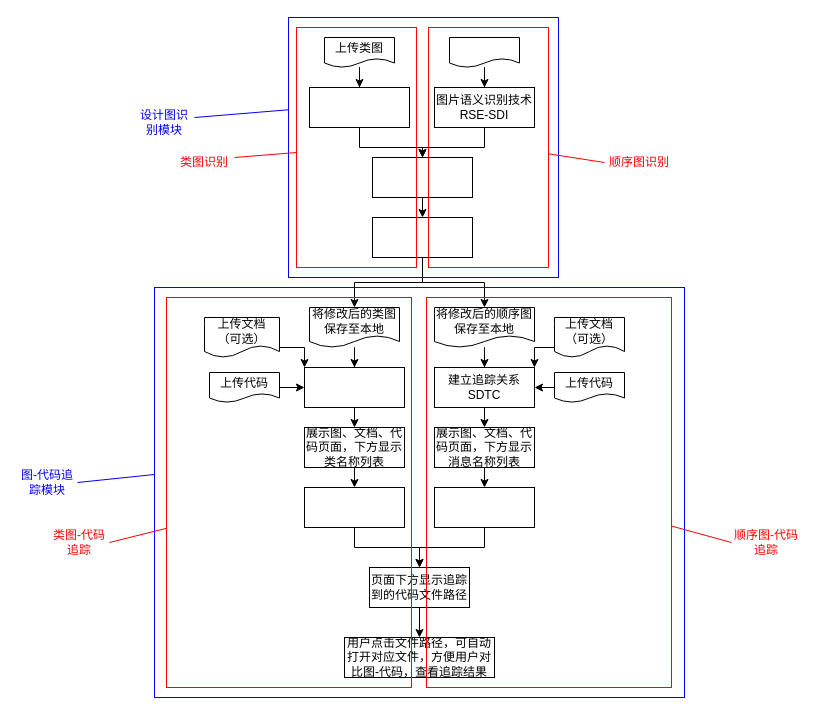
This 818x715 diagram has some shape labels left out. The box of each missing label's shape, as (x1, y1, x2, y2) in pixels:
上传顺序图: (448, 36, 520, 68)
图片语义识别技术RSE-CDI: (308, 86, 410, 128)
展示可编辑图页面: (372, 156, 472, 198)
建立追踪关系CDTC: (304, 366, 404, 408)
用户点击消息名称: (434, 486, 534, 528)
用户点击类名称: (304, 486, 404, 528)
用户编辑图，确保与原图一致: (372, 216, 472, 258)
